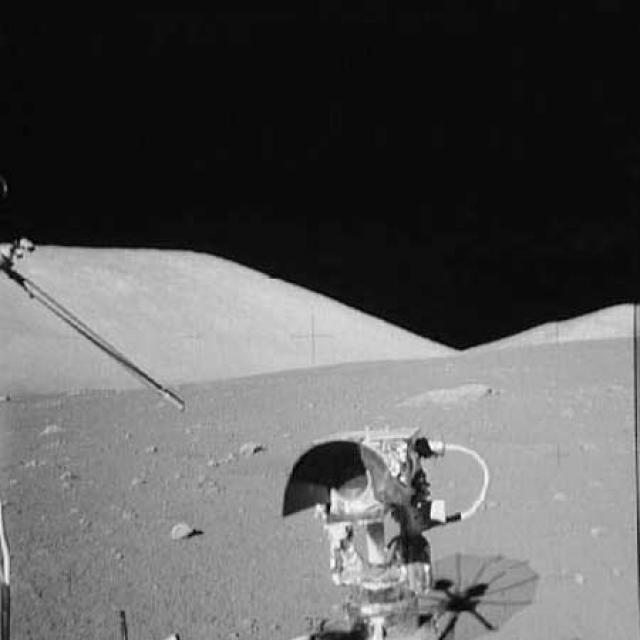artifact: (275, 424, 499, 638), (0, 233, 189, 418)
rock: (394, 377, 493, 413), (163, 516, 199, 546), (233, 436, 266, 458)
